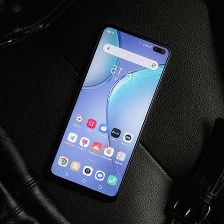phone: (46, 19, 176, 203)
